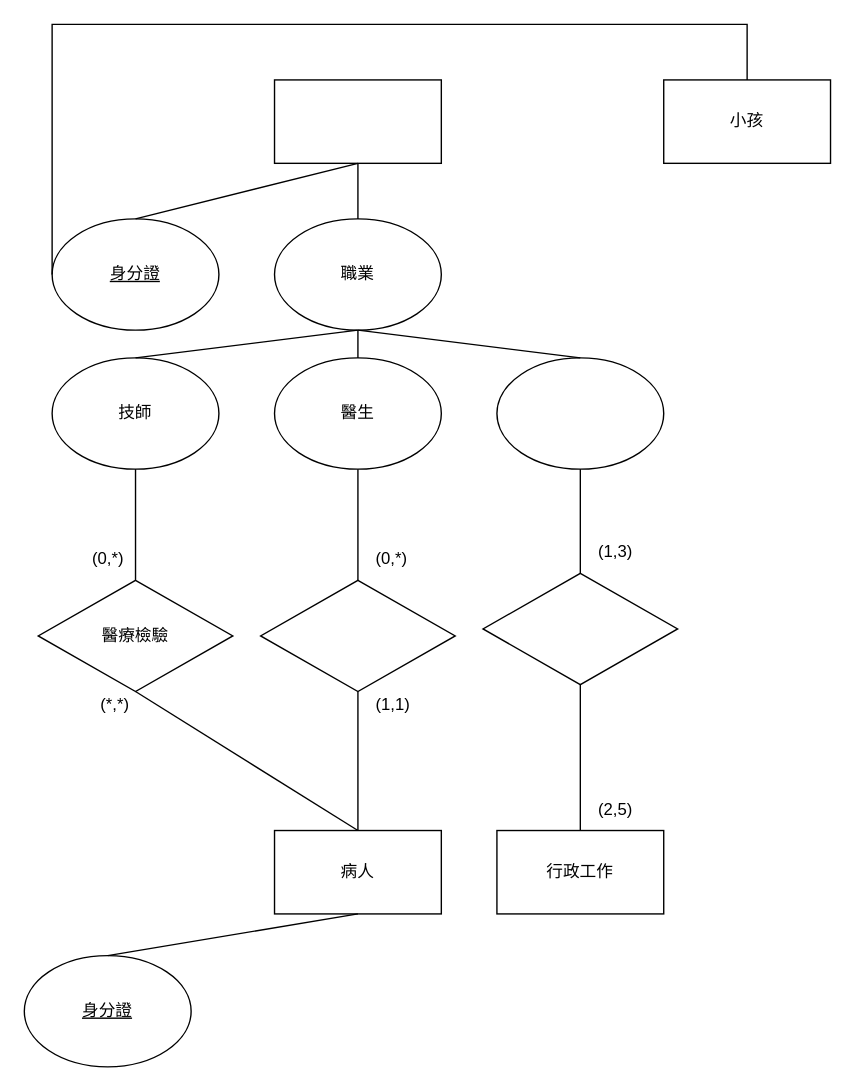
Some shapes in this 855 by 1091 pixel diagram are drawn without their labels. The shapes that lost their labels are listed below. From the top down, each one's centre as x and y in pixels, then its label:
At (x=357, y=121): "員工".
At (x=580, y=413): "行政人員".
At (x=357, y=635): "治療".
At (x=580, y=628): "參與".
